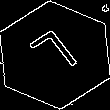L_SE: (25, 25, 85, 85)
